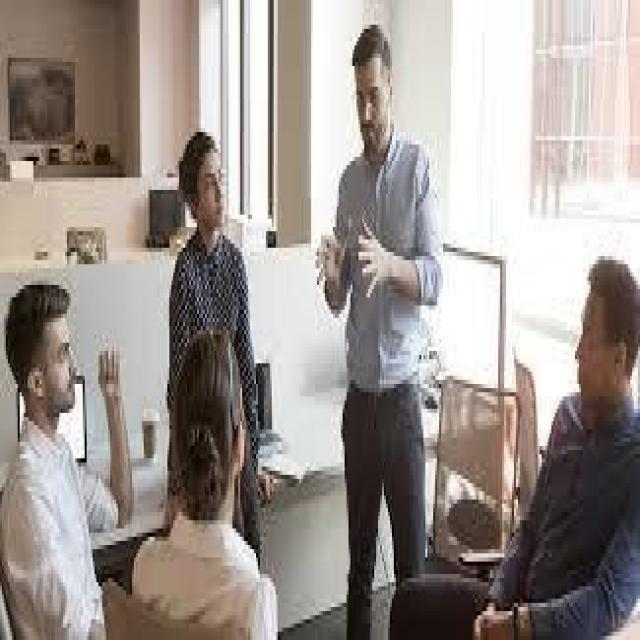person: (382, 128, 634, 636), (301, 12, 439, 632), (146, 116, 301, 582), (0, 243, 134, 636), (132, 318, 285, 623)
